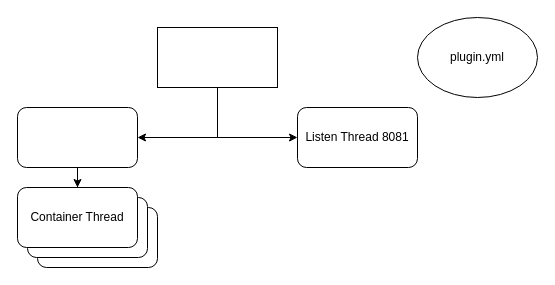
Image size: 555x285. Some labels were removed from this diagram. Here are the shapes that lost their labels. From the top down, the centre of each, then its label:
At [217,57]: "Main".
At [77,137]: "Listen Thread 8080".
